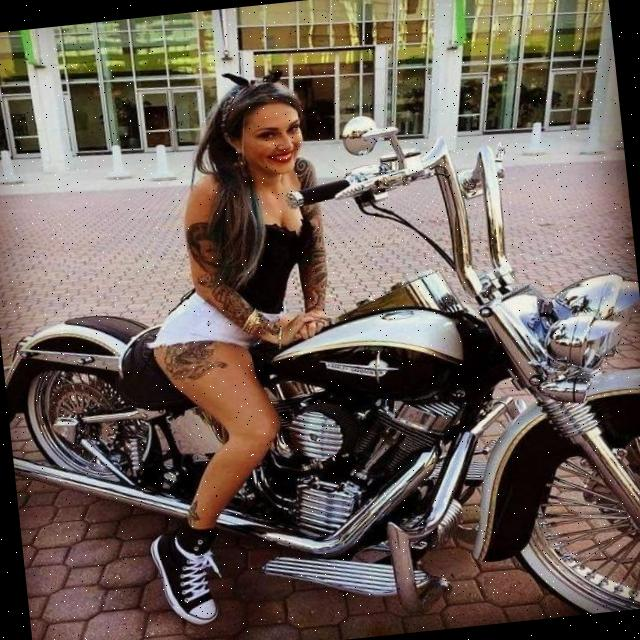No helmet: (200, 54, 322, 205)
